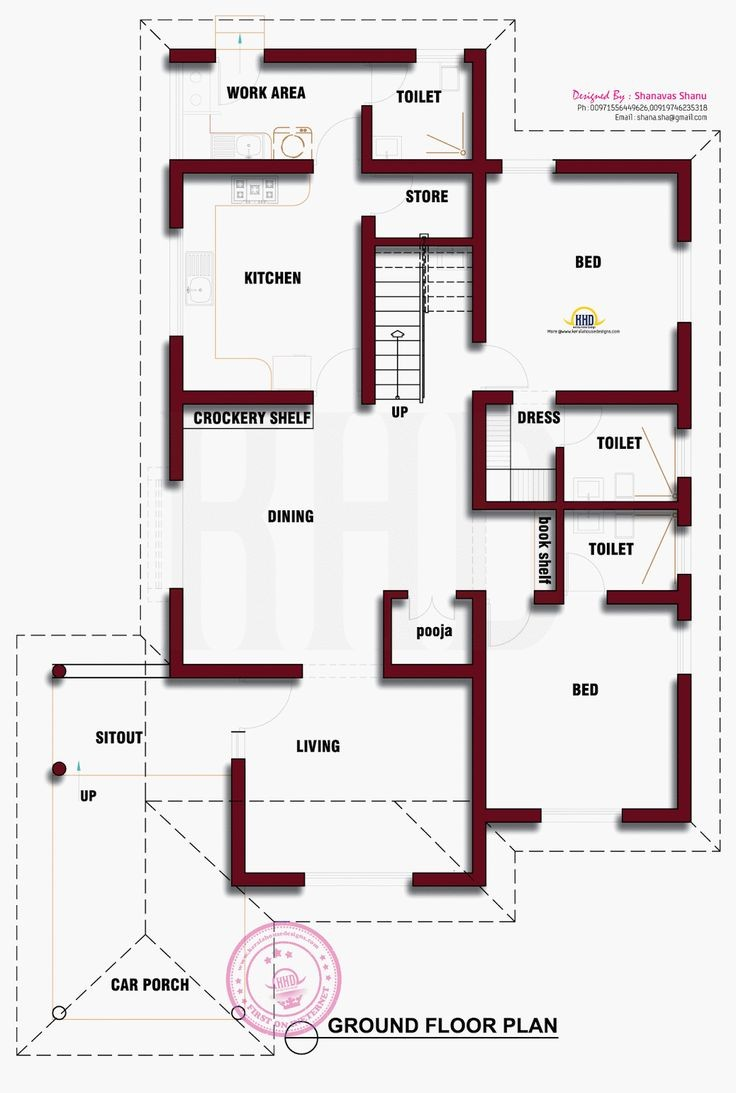door: (236, 679, 296, 739), (486, 596, 535, 656), (315, 104, 360, 167), (315, 349, 361, 404), (485, 341, 531, 382), (563, 409, 610, 446), (403, 594, 460, 622)
room: (468, 161, 696, 507), (181, 411, 475, 664), (475, 511, 681, 807), (236, 672, 476, 884), (173, 184, 366, 397), (185, 41, 478, 171), (370, 174, 488, 242), (395, 591, 470, 676)
wall: (463, 51, 493, 341), (466, 599, 491, 884), (355, 216, 385, 401), (165, 381, 311, 417), (670, 664, 700, 826), (163, 341, 195, 486), (223, 749, 253, 889), (555, 382, 680, 412), (261, 44, 420, 67), (363, 156, 503, 182), (468, 386, 495, 517), (163, 156, 315, 179), (550, 441, 571, 604), (168, 661, 310, 684), (668, 149, 701, 246), (376, 234, 490, 261), (553, 161, 700, 181), (601, 581, 685, 616), (163, 586, 191, 684), (476, 499, 675, 512), (158, 161, 193, 231), (675, 322, 696, 436), (410, 867, 498, 894), (393, 664, 488, 689), (235, 869, 316, 896), (481, 801, 546, 831), (355, 102, 381, 174), (620, 806, 688, 831), (380, 594, 400, 679), (671, 477, 700, 531), (528, 581, 578, 612), (671, 571, 698, 627), (468, 384, 518, 411), (168, 44, 213, 66)
window: (161, 481, 190, 587), (161, 69, 191, 156), (670, 244, 695, 326), (550, 802, 613, 831), (166, 239, 181, 341), (676, 626, 698, 679), (505, 159, 551, 182), (678, 437, 696, 481)
